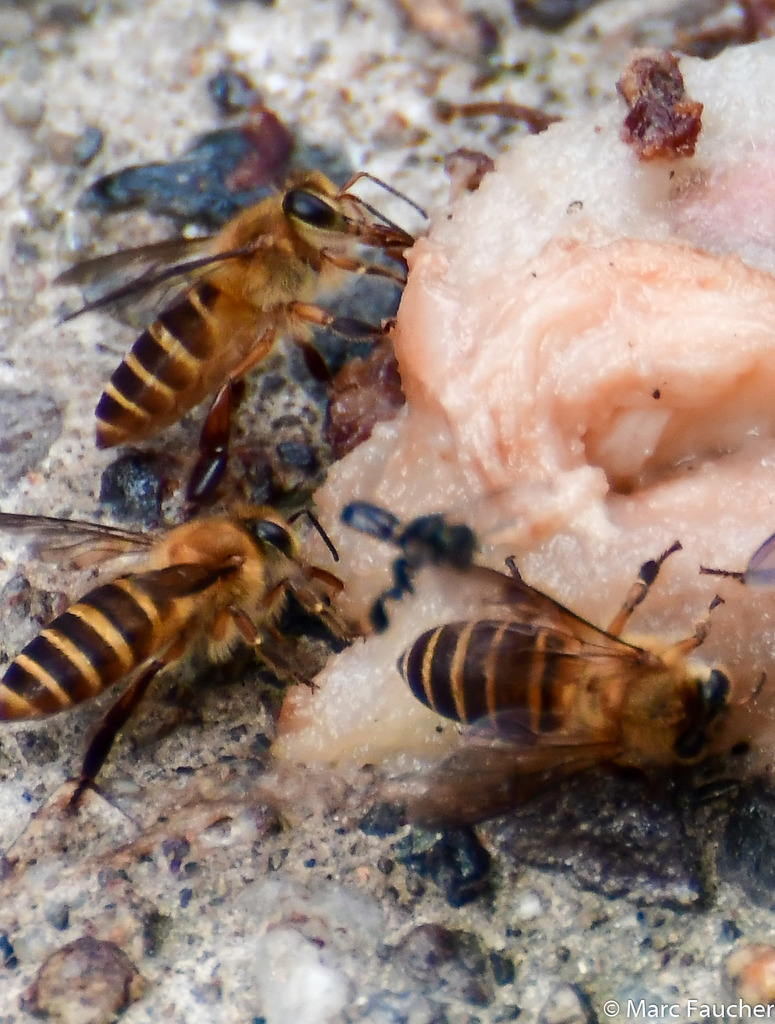not_bumblebee: (52, 171, 431, 508), (1, 501, 369, 817), (397, 540, 768, 835)
